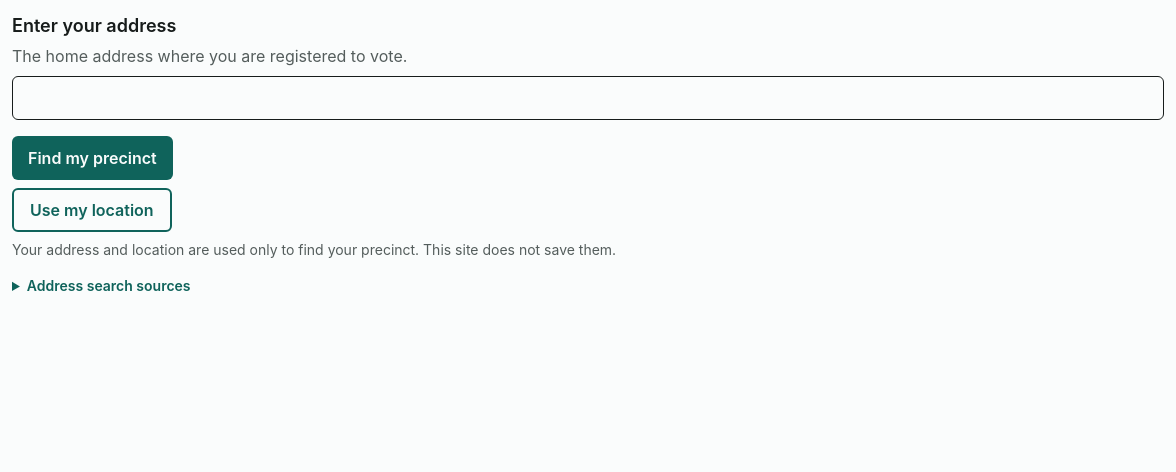
Test: AddressLookup › drops a late "Use my location" answer once a suggestion is picked with a pointer
Step 1. Type "7700" into the dropdown labelled "Enter your address" → [588, 98], box [12, 76, 1164, 120]
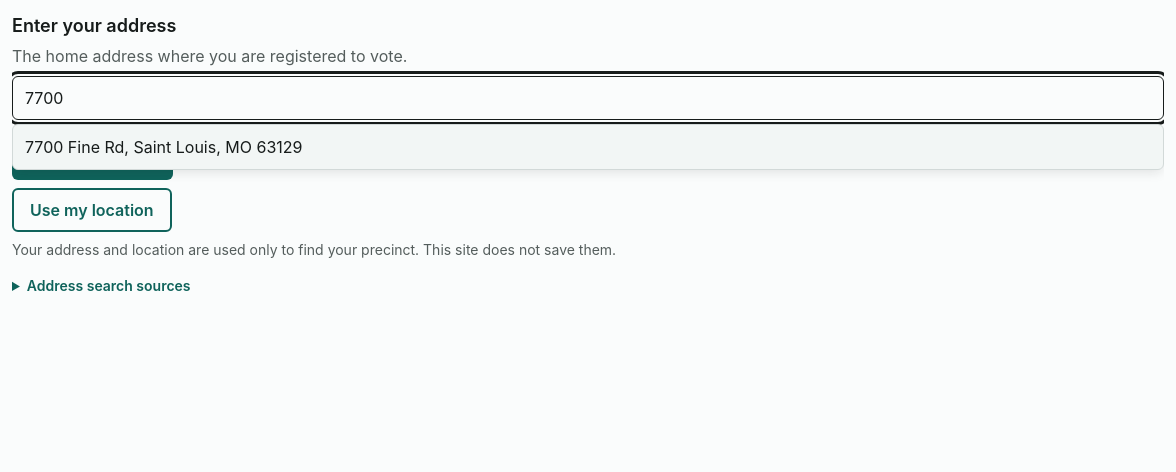
Step 2. Click the button "Use my location" → [92, 210], box [12, 188, 172, 232]
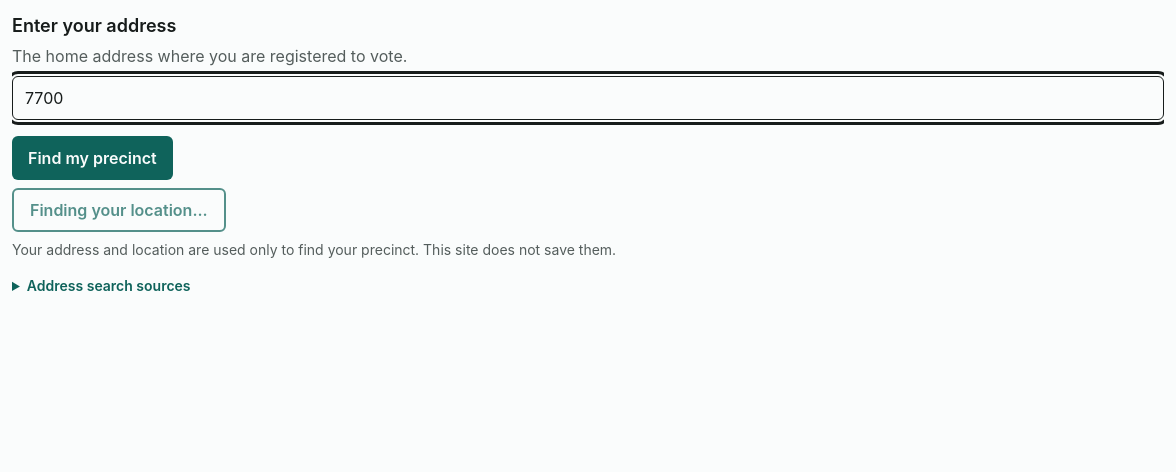
Step 3. Press Arrowdown
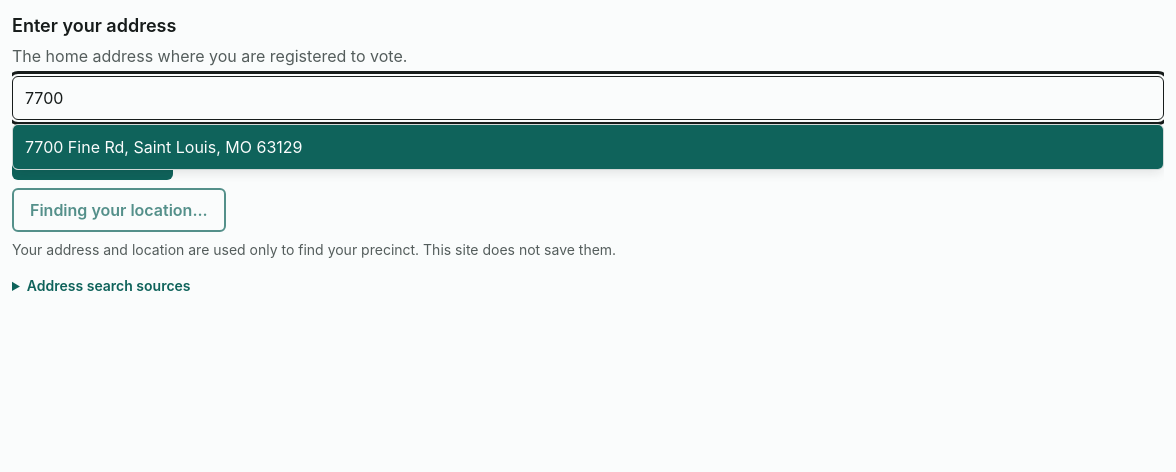
Step 4. Click the option "7700 Fine Rd, Saint Louis, MO 63129" → [164, 147], box [13, 125, 1163, 169]
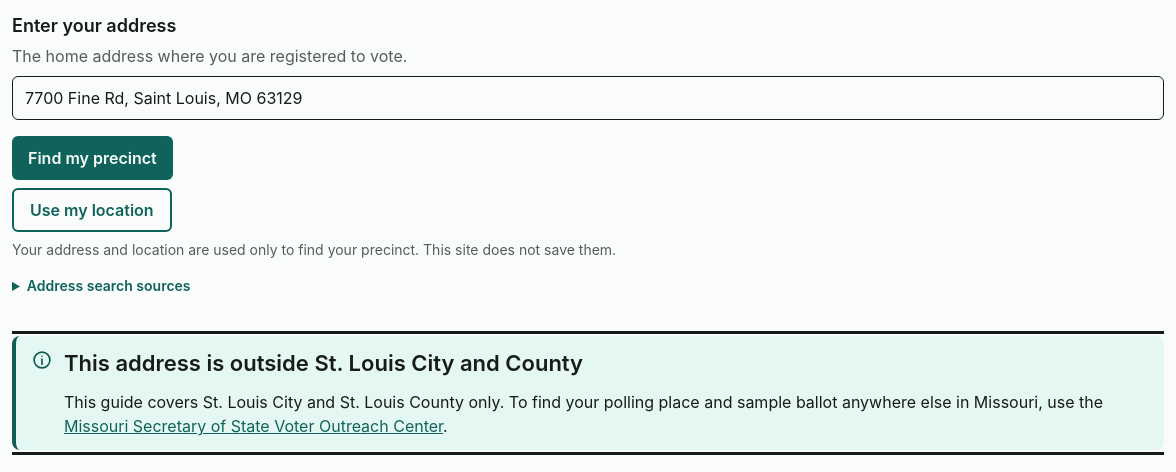
Expected: the heading "This address is outside St. Louis City and County" is shown, [64, 350, 583, 376]
